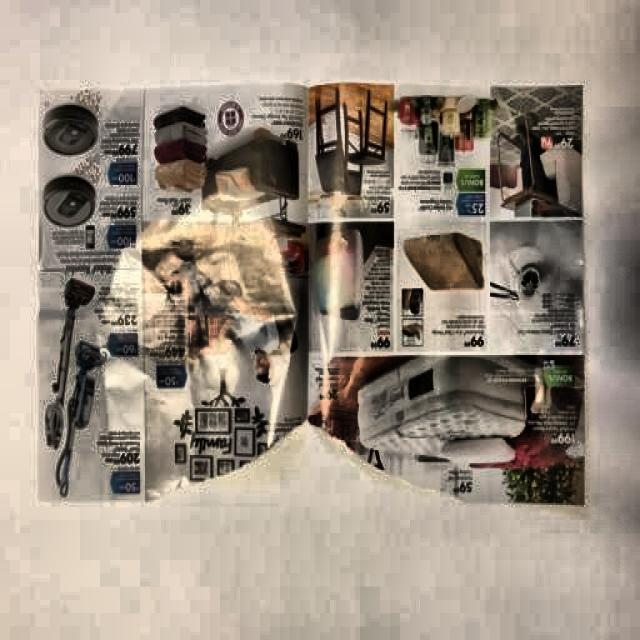paper: (36, 84, 589, 507)
